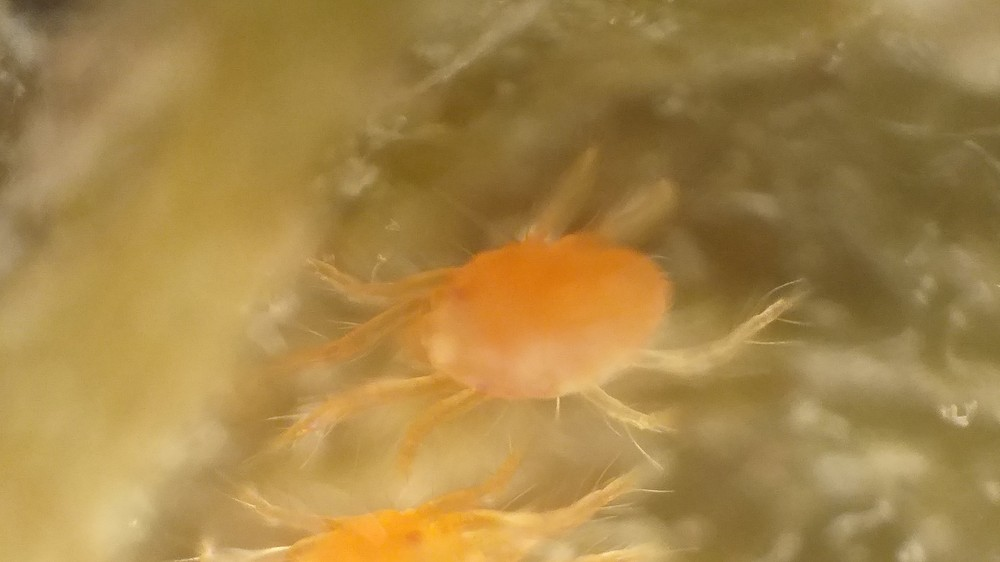Aracnido Rojo: (280, 158, 813, 492)
